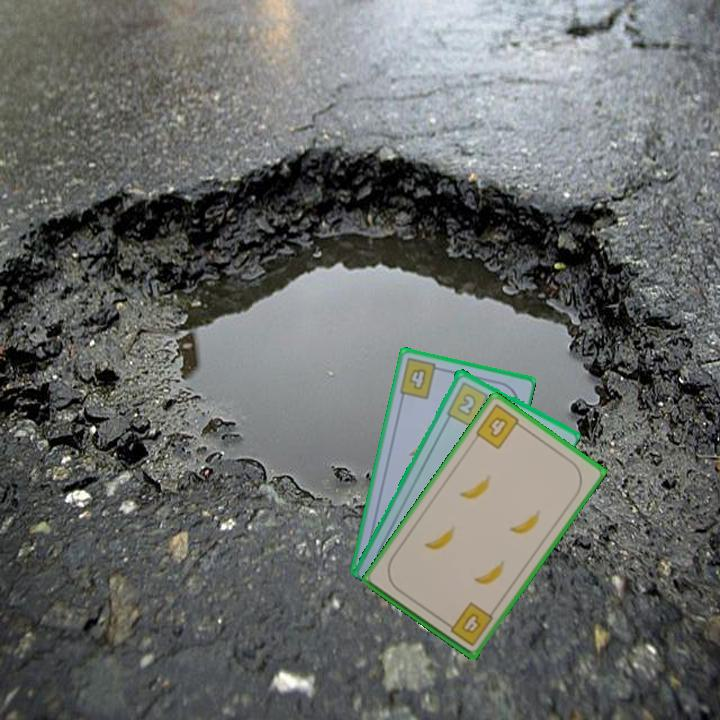2b: (443, 378, 496, 429)
4b: (472, 400, 527, 452), (441, 598, 496, 649), (396, 355, 445, 402)
